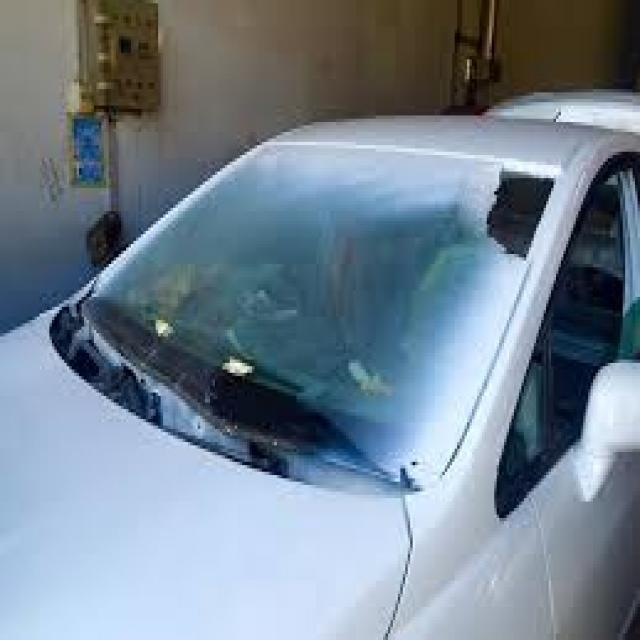damaged-windscreen: (70, 140, 548, 478)
